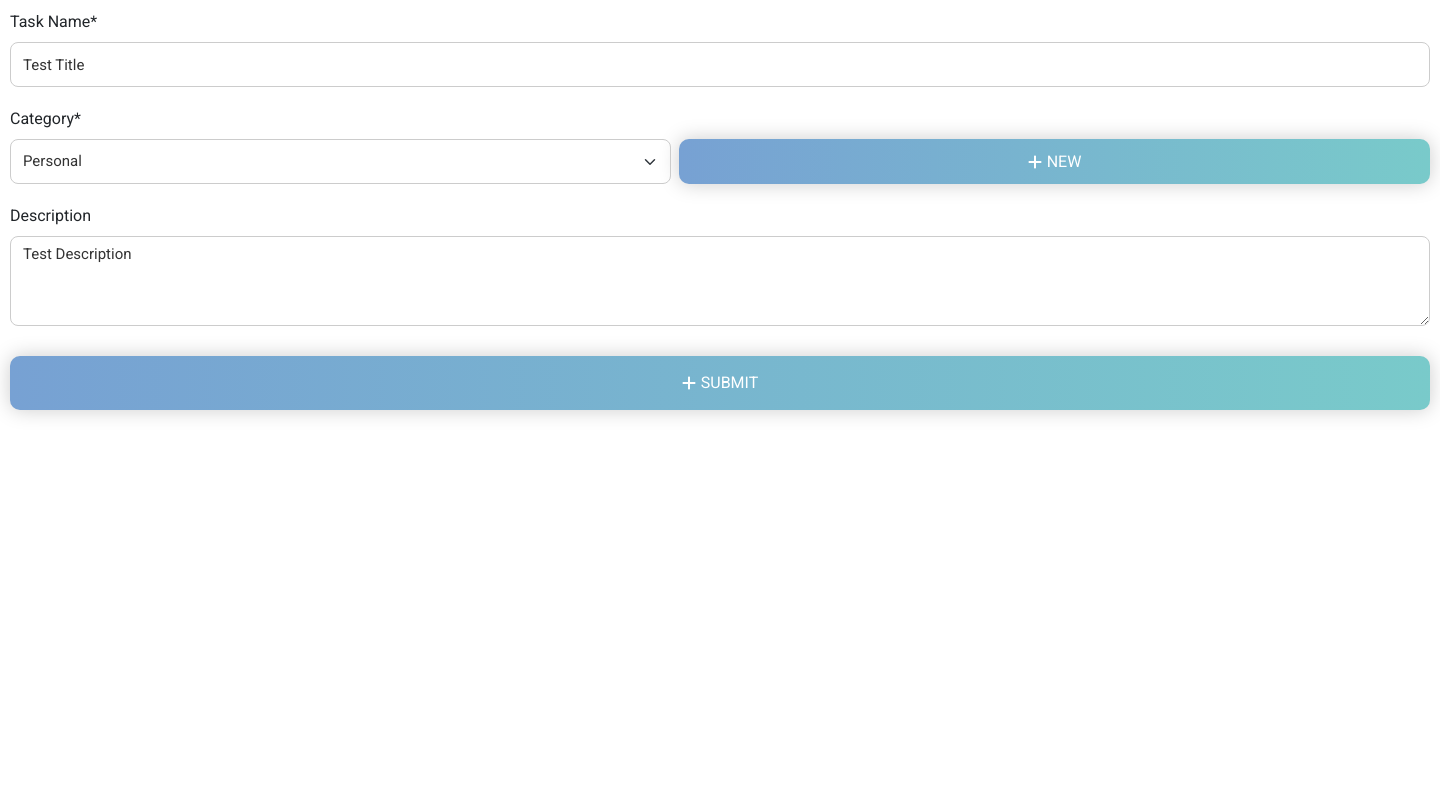
Test: TaskForm › Opens CreateCategory modal on button click
Expected: the text "Create New Category" is not shown
Click the button with test id "open-create-category-modal". click: (1054, 162)
box: [679,139,1430,184]
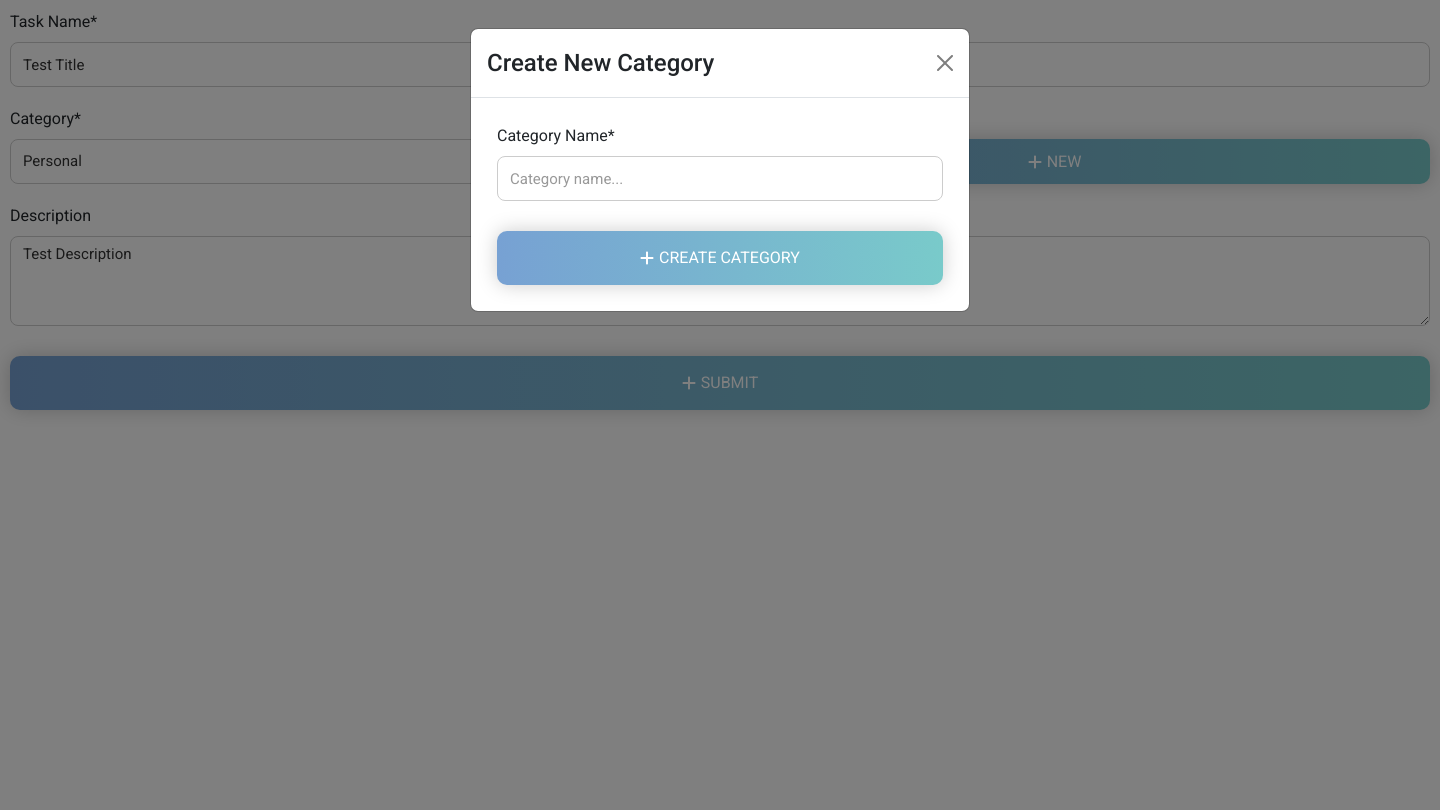
Expected: the text "Create New Category" is shown, [487,45,714,81]
